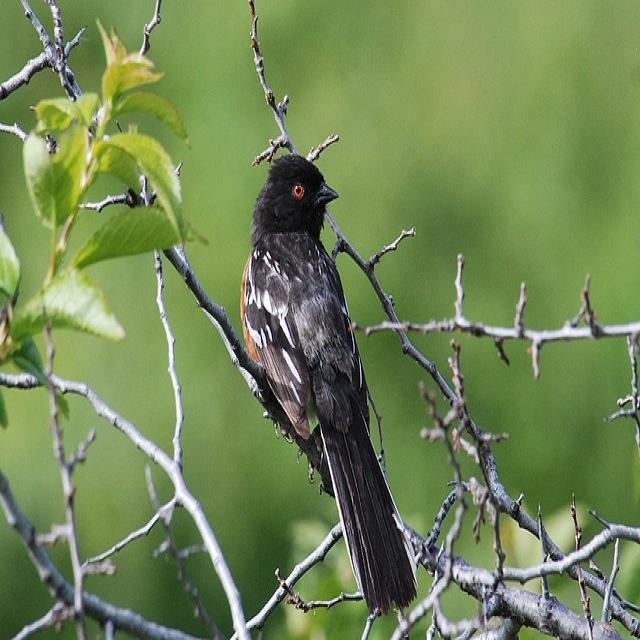bird: (239, 148, 421, 620)
